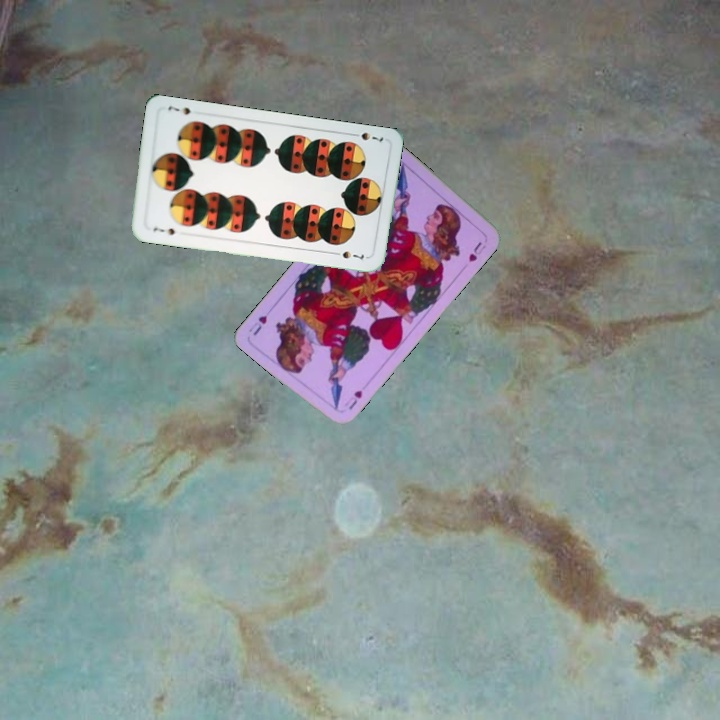HU: (340, 386, 365, 412)
S7: (347, 128, 385, 145), (149, 223, 180, 238)
